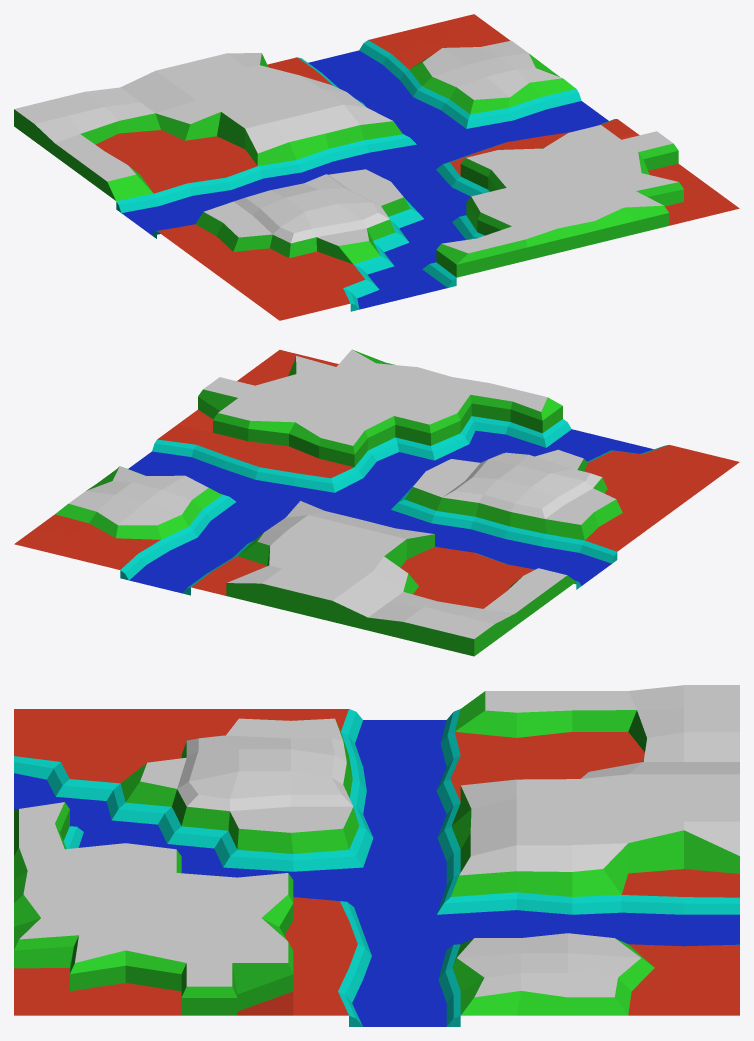
The model's file is Environment.fbx.
The picture shows the model from 3 angles, top to bottom: view 1: azimuth 30°, elevation 25°; view 2: azimuth 150°, elevation 25°; view 3: azimuth 270°, elevation 25°; orthographic projection. The views are drawn at different scales.
Visible parts, largest first — view 1: Plane; view 2: Plane; view 3: Plane.
Boxes of the visible parts, x1,y1,x2,y2 form: Plane: (14,14,739,320); Plane: (14,349,739,656); Plane: (14,685,739,1026).
Bounding box in the file's own units: 60000 × 4622 × 60000.
